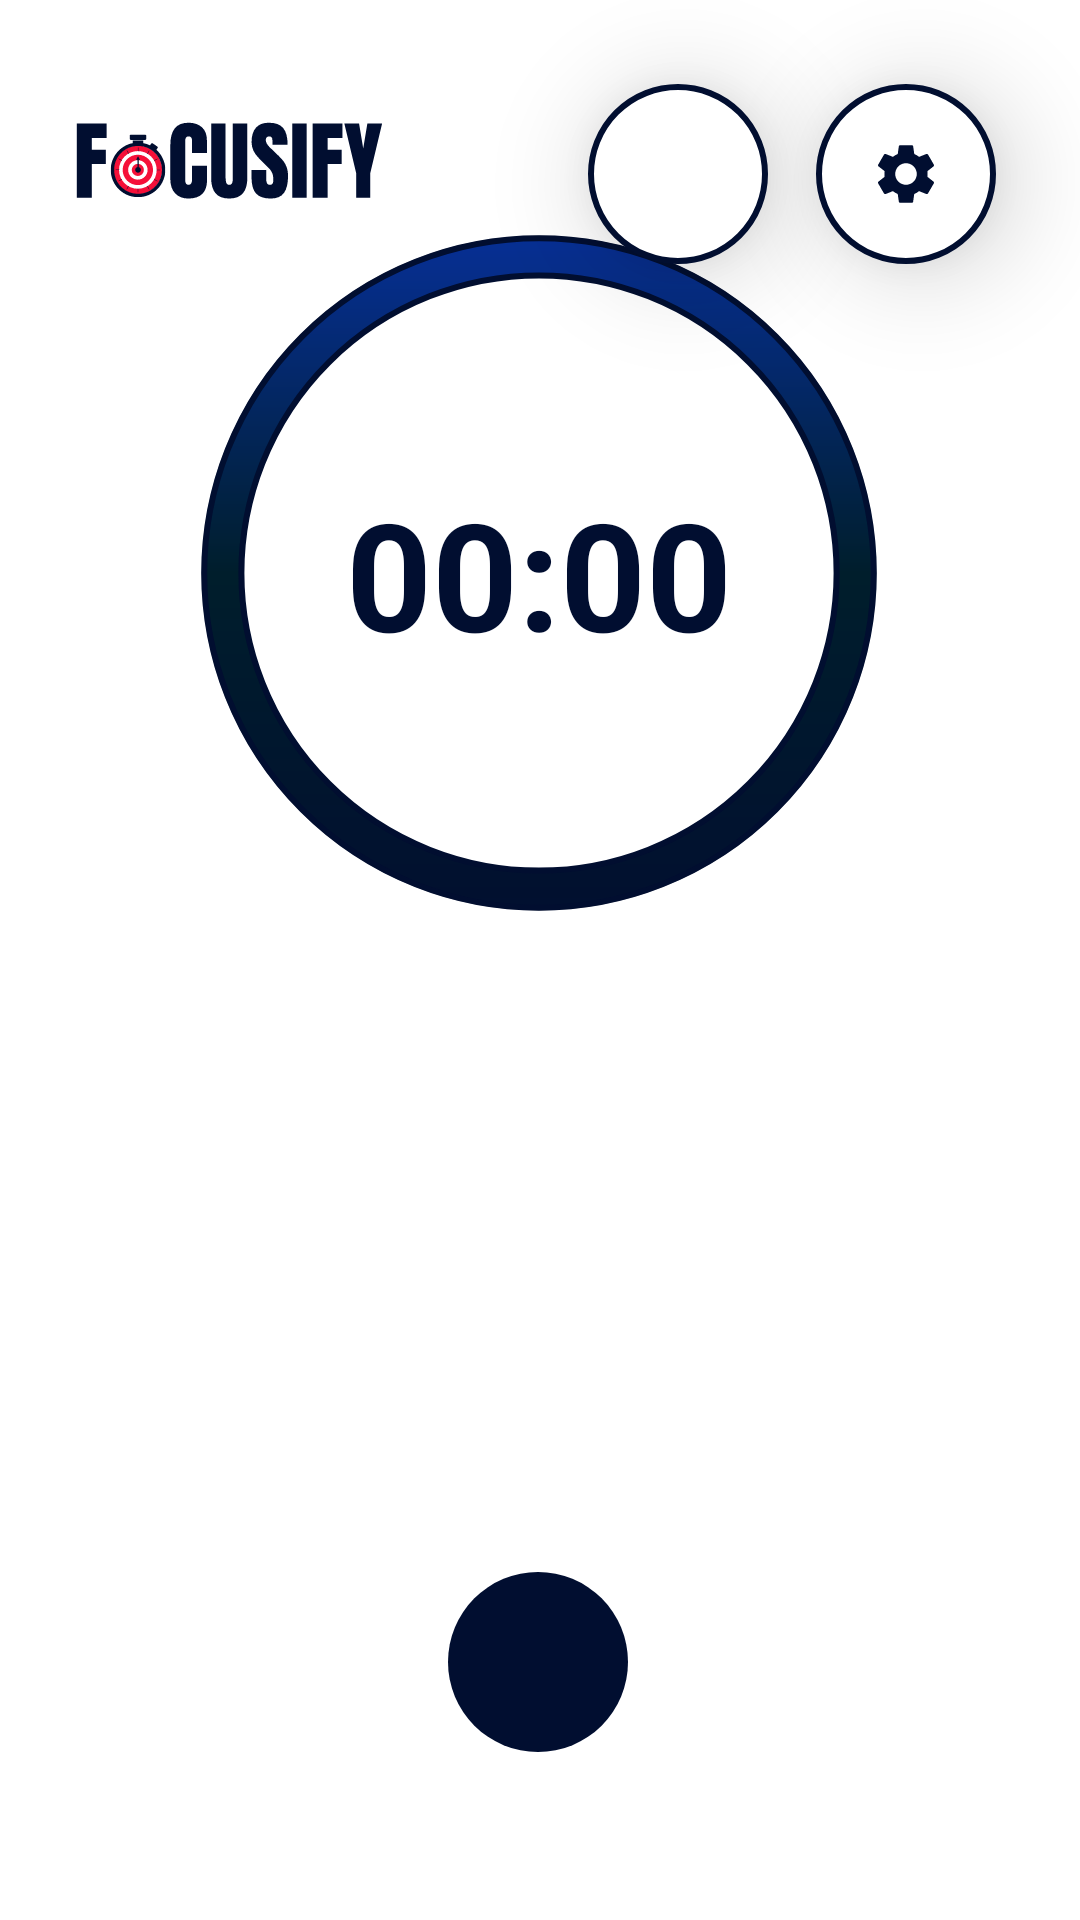

Point at icon controls on the screen. Image size 1080×1920, points as (x,y).
Settings Button: (906,174)
